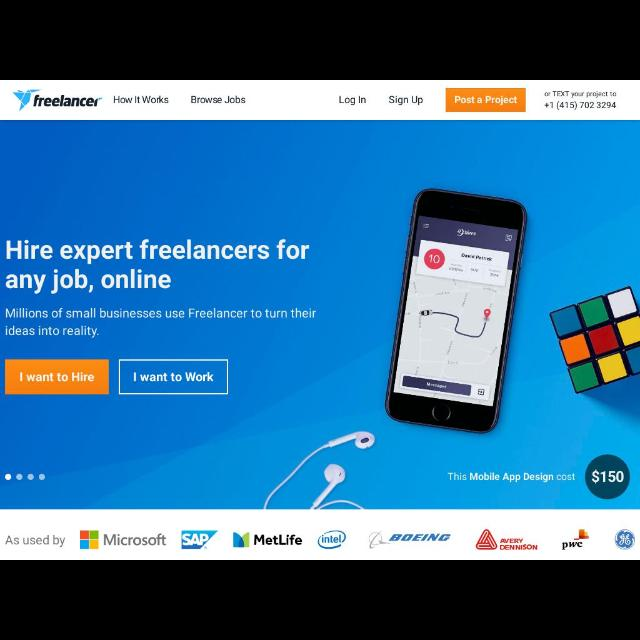backgroundimage: (1, 121, 639, 508)
image: (12, 87, 106, 113), (78, 528, 168, 548), (366, 530, 456, 550), (472, 528, 538, 552), (230, 530, 306, 550), (178, 527, 220, 551), (556, 526, 592, 550), (314, 530, 350, 548), (612, 528, 638, 550)
pageindicator: (4, 471, 48, 483)
text: (4, 237, 312, 295), (5, 307, 318, 341), (543, 90, 619, 112), (448, 471, 576, 484), (19, 371, 95, 384), (131, 371, 213, 382), (6, 534, 66, 546), (113, 94, 171, 106), (190, 94, 248, 105), (454, 96, 518, 104), (388, 94, 424, 106), (338, 94, 367, 105)
textbutton: (118, 358, 230, 394), (5, 358, 110, 394), (446, 88, 526, 112)
toolbar: (1, 84, 639, 118)
